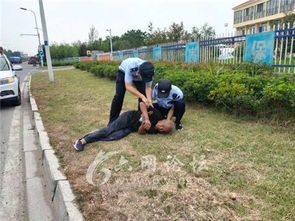falling: (73, 99, 181, 148)
